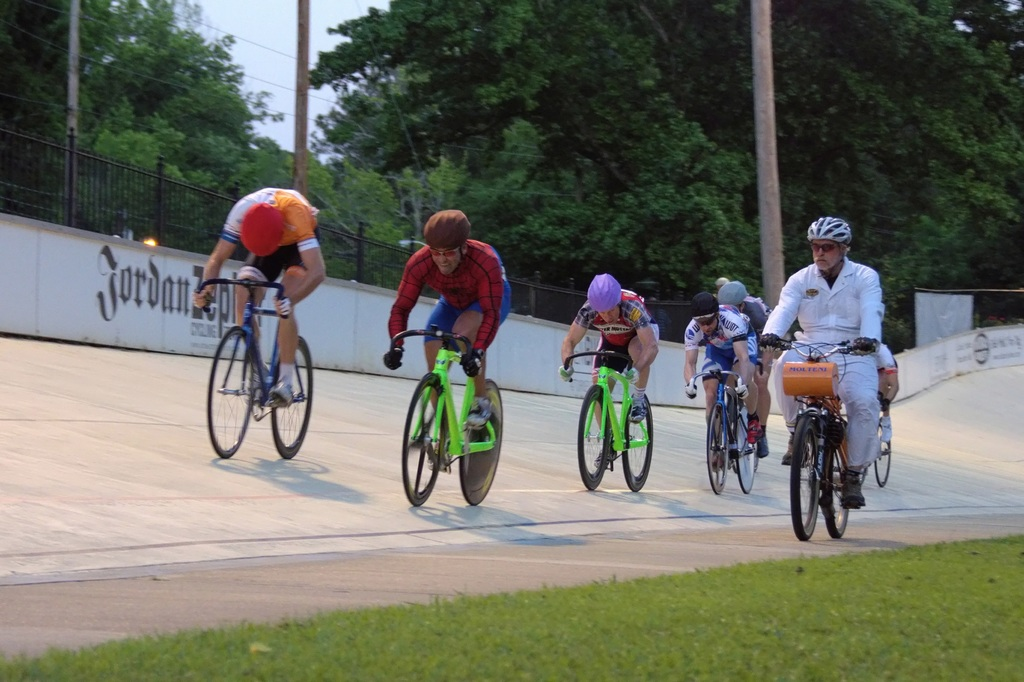Bike_toward: (761, 331, 908, 541), (192, 274, 317, 460), (388, 325, 507, 507), (562, 353, 656, 494), (688, 367, 755, 497)
